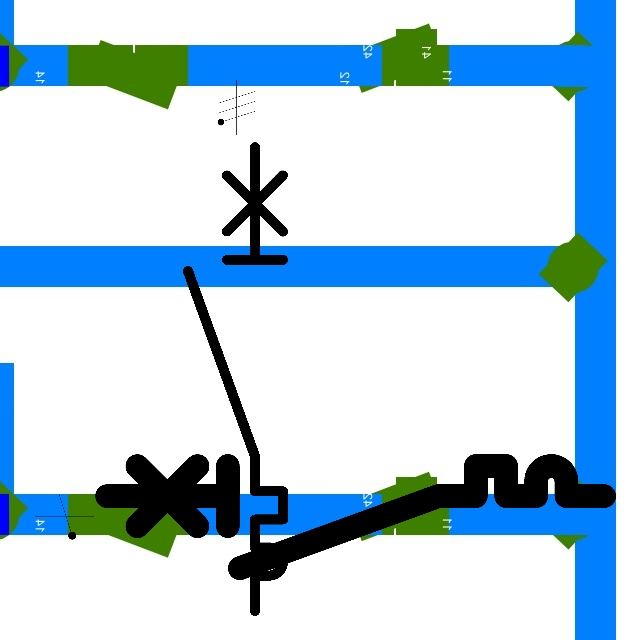interruptor_termomagnetico: (94, 453, 617, 581), (176, 135, 295, 623)
